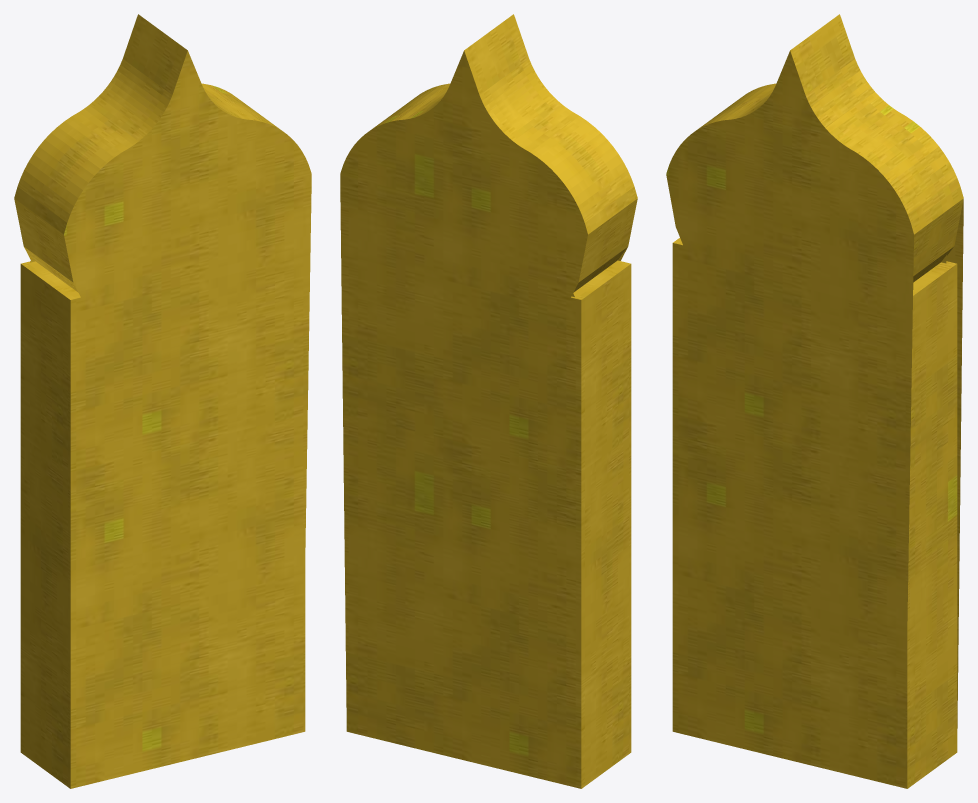
File: 埃及門框.dae
3 views of the same model, side by side, from view 1: azimuth 30°, elevation 25°; view 2: azimuth 150°, elevation 25°; view 3: azimuth 330°, elevation 25° (orthographic).
Parts seen in each view (by area): view 1: PUERTA; view 2: PUERTA; view 3: PUERTA.
Part boxes in pixels (x1=…): PUERTA: x1=14, y1=14, x2=311, y2=788; PUERTA: x1=340, y1=14, x2=637, y2=788; PUERTA: x1=666, y1=14, x2=963, y2=788.
Size of the model in its own units: 44.21 by 15.35 by 121.
1 material, 1 textured.
